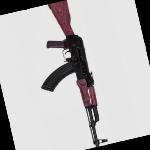Senapan: (34, 0, 112, 146)
